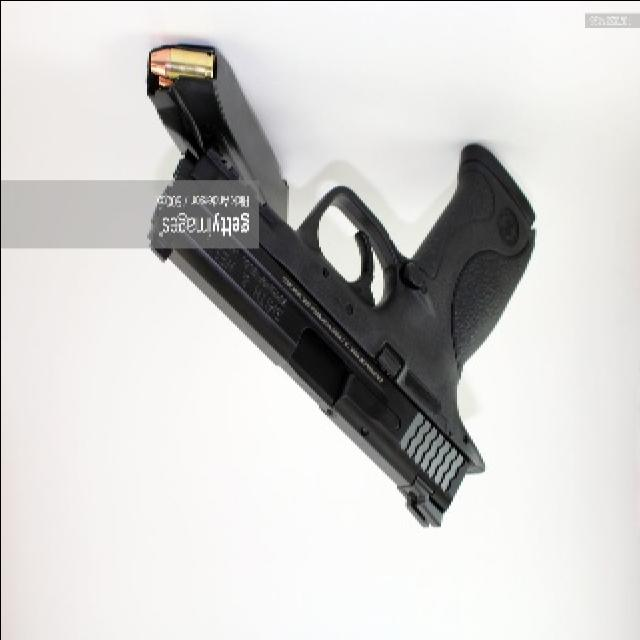handgun: (151, 146, 545, 533)
